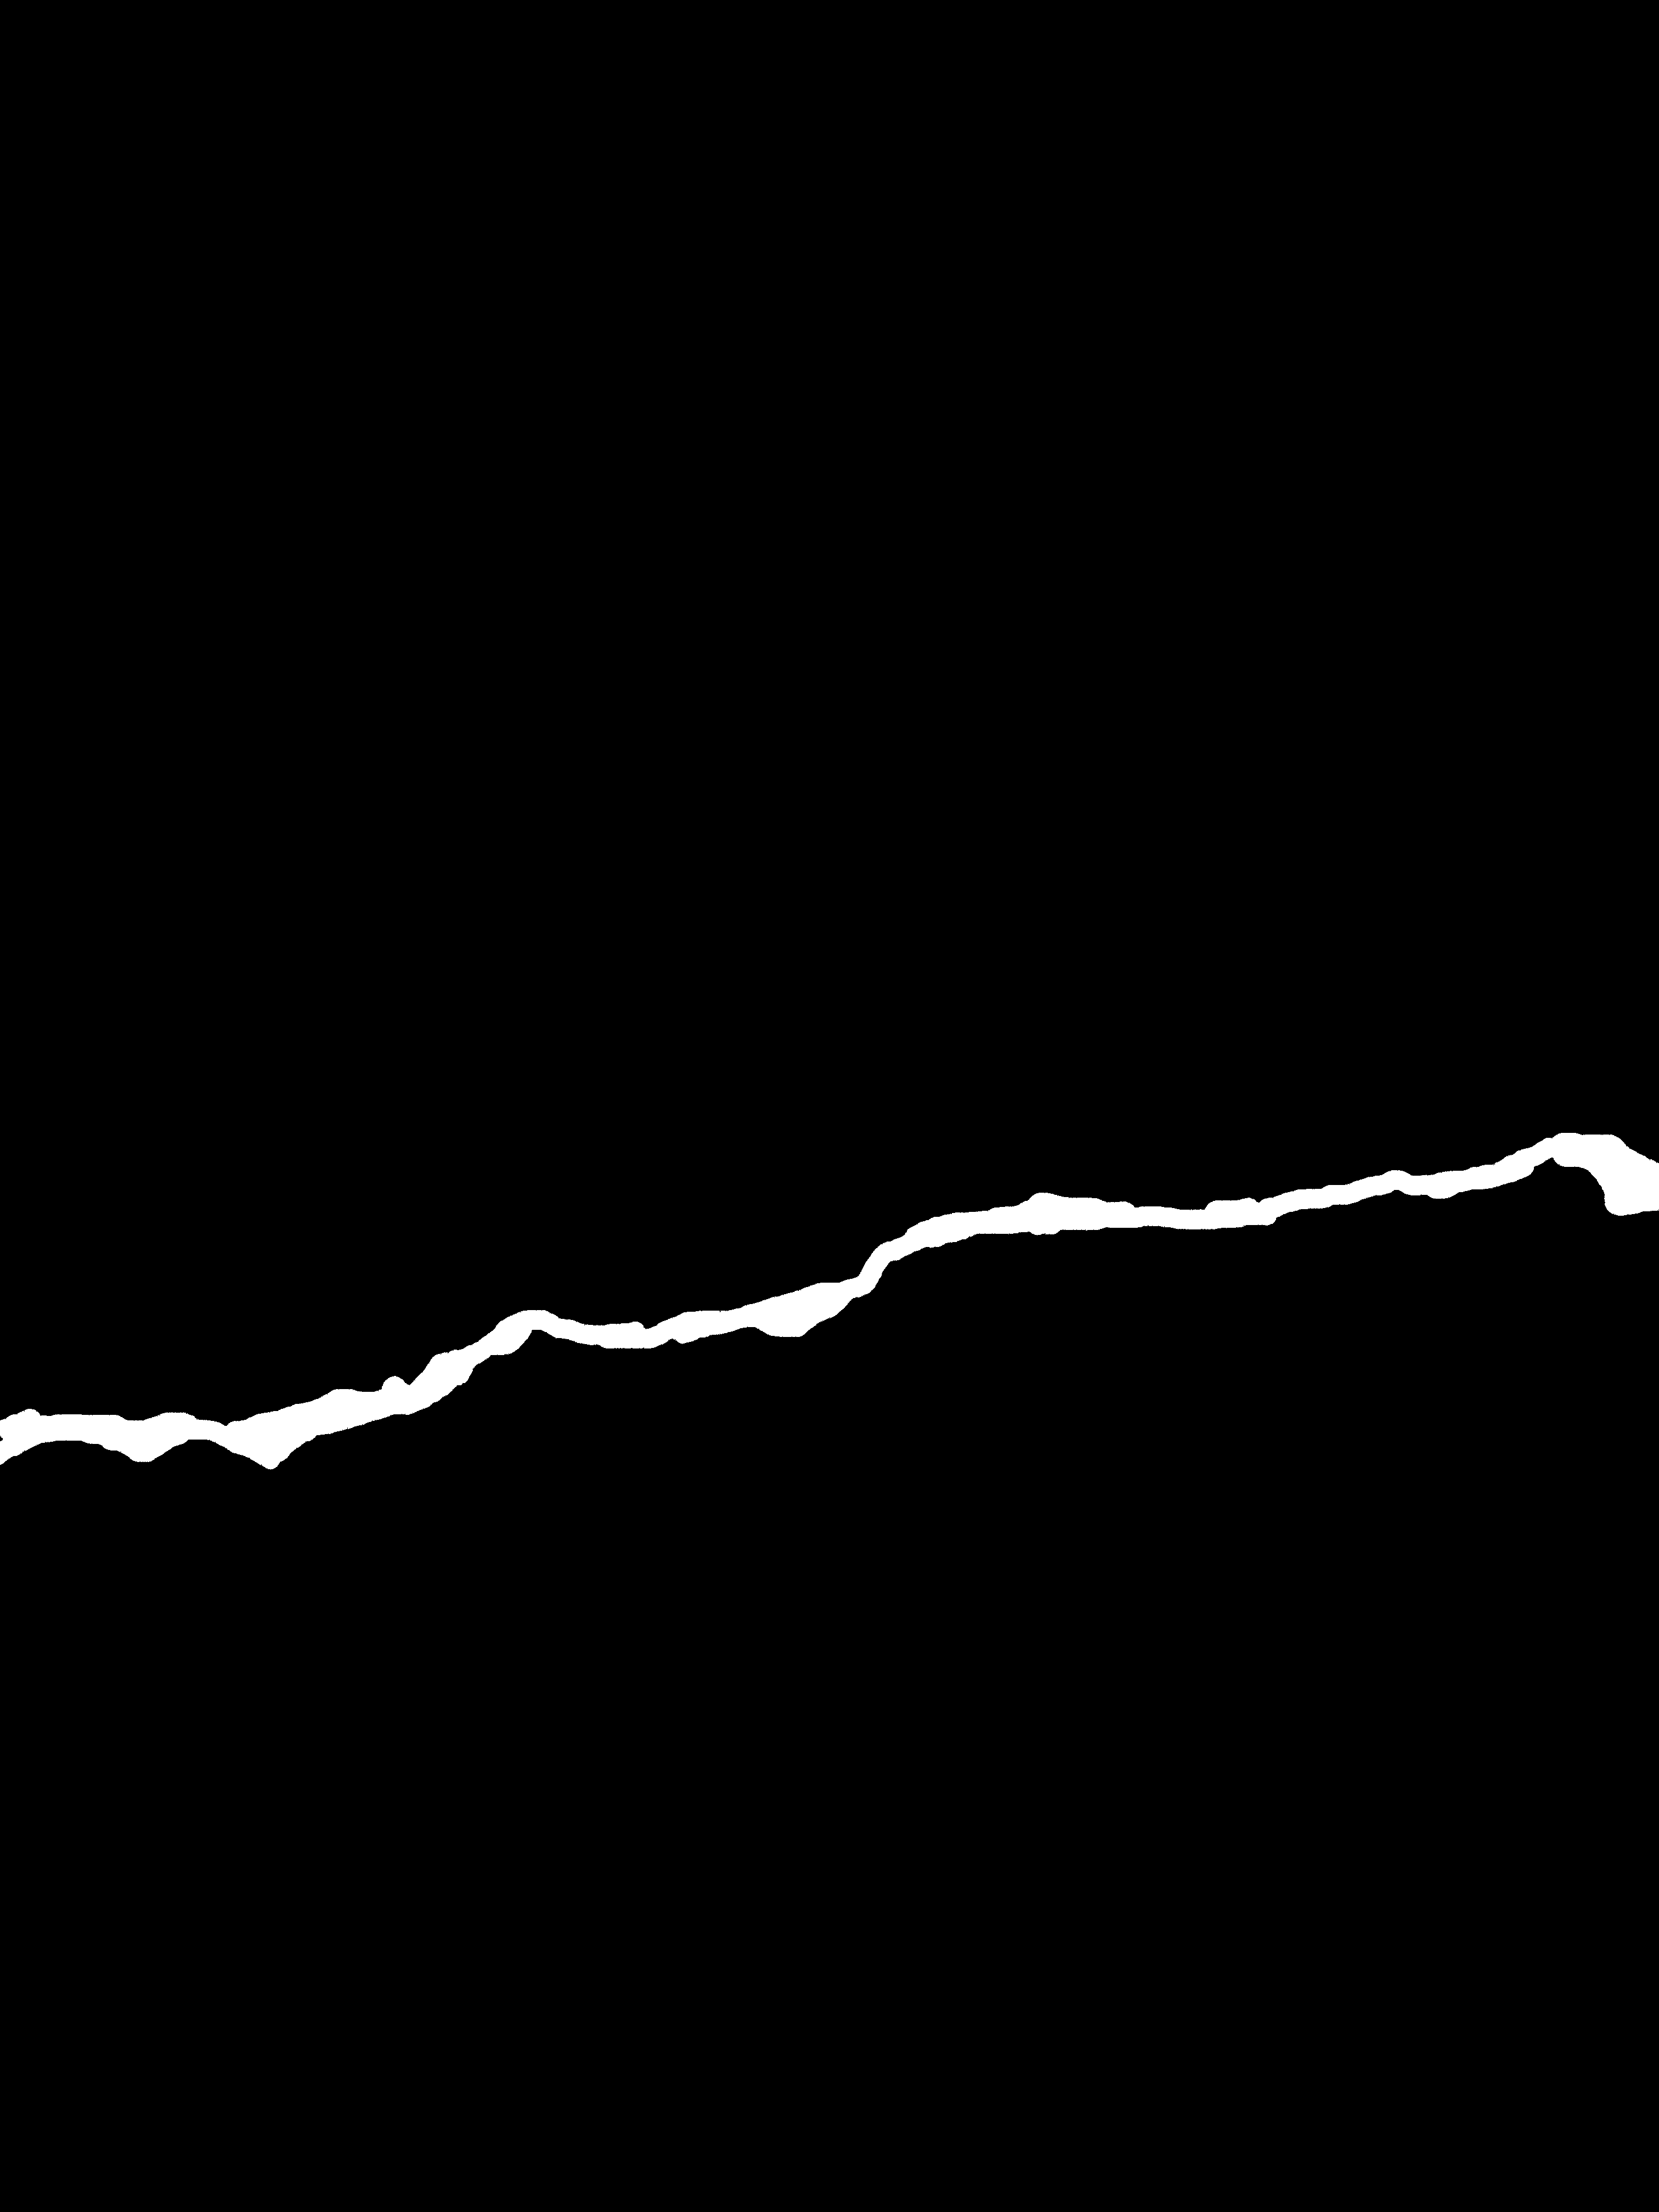Crack: (0, 1099, 1659, 1510)
